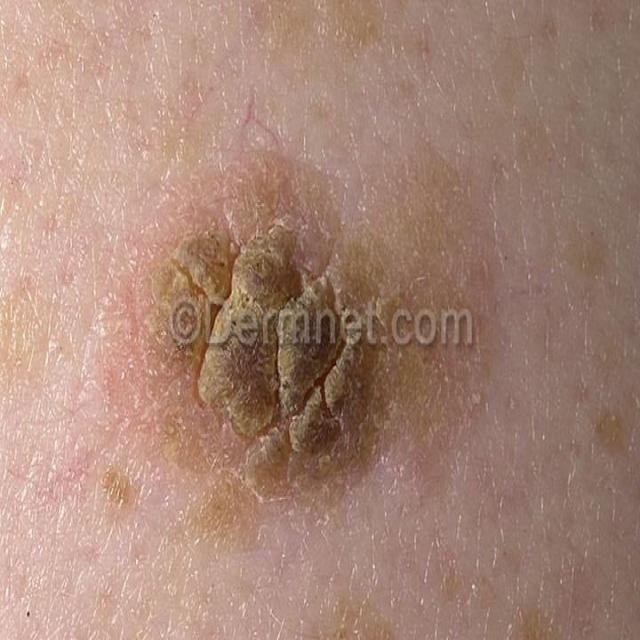Eczema: (163, 208, 451, 523)
